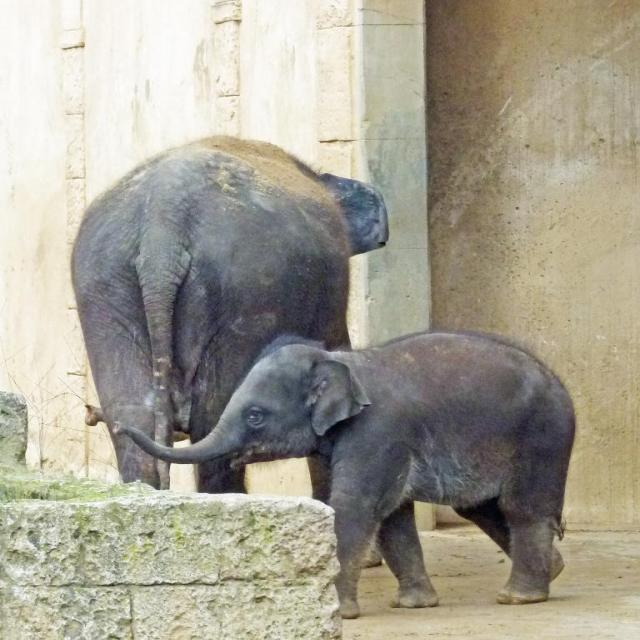elephant: (70, 132, 392, 570), (158, 329, 588, 613)
